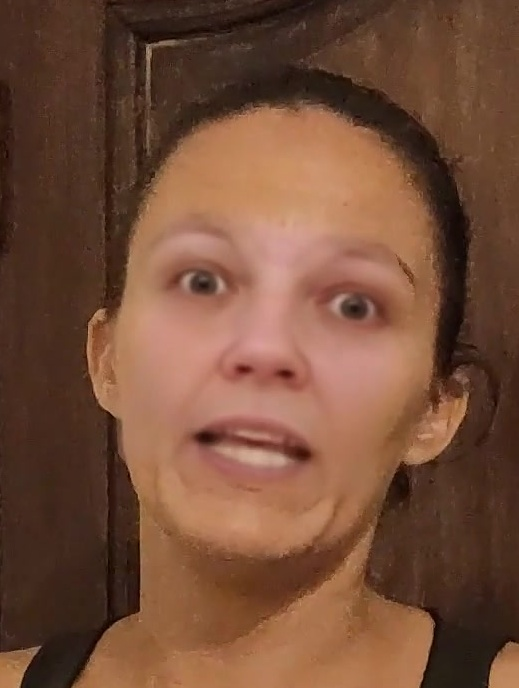eb_f: (139, 216, 425, 344)
